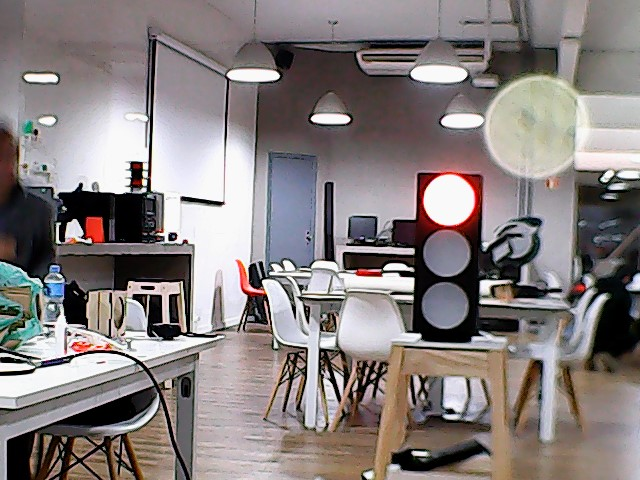vermelho: (411, 166, 485, 340)
